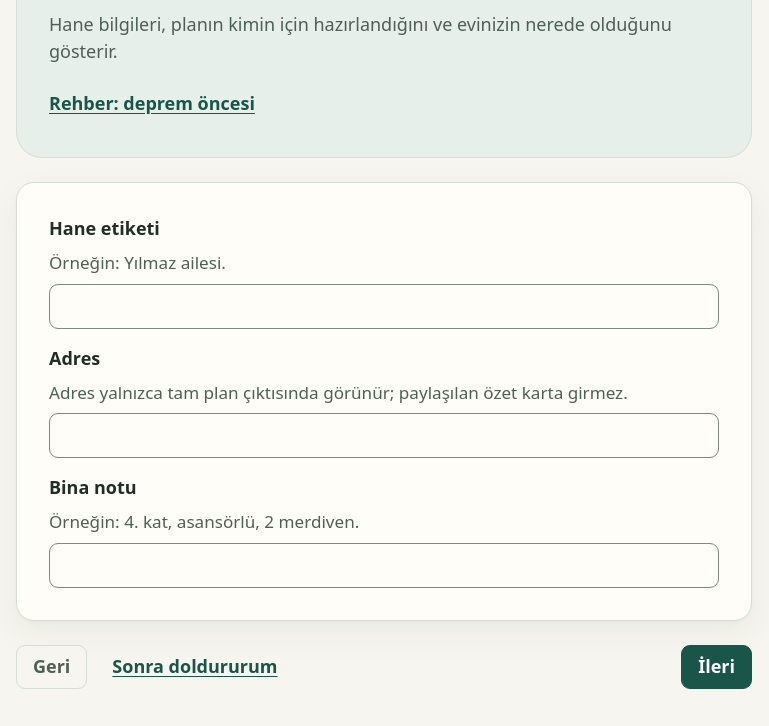
Test case: sihirbaz — gezinme ve adım göstergesi › "Sonra doldururum" doğrulama yapmadan sonraki adıma geçer
(page scrolled)
Step 1. Click the button "Sonra doldururum" → click(195, 667), box [95,645,294,689]
(page scrolled)
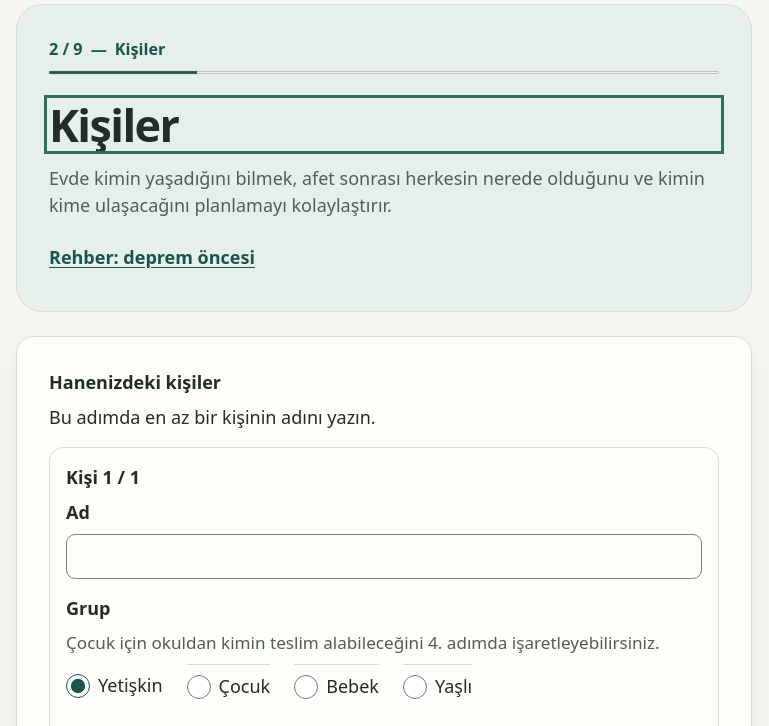
Expected: the heading "Kişiler" is shown, [49,94,178,155]
